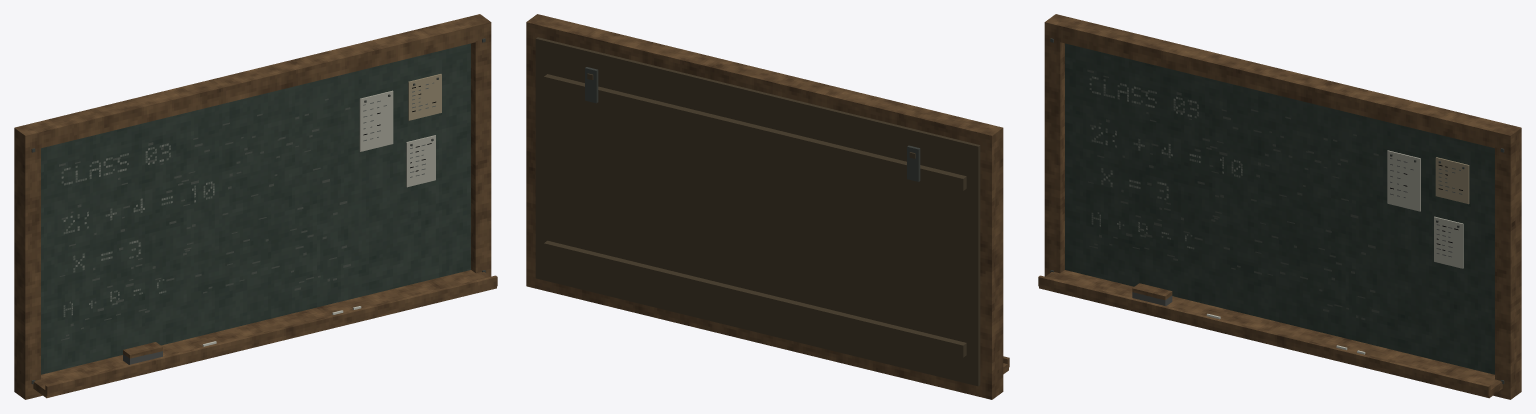
File: Chalkboard.glb
3 views of the same model, side by side, from view 1: azimuth 30°, elevation 25°; view 2: azimuth 150°, elevation 25°; view 3: azimuth 330°, elevation 25° (orthographic).
Visible parts, largest first — view 1: Chalkboard_Frame.001, Chalkboard_Pinned_Notices.001, Chalkboard_Faded_Writing.001; view 2: Chalkboard_Frame.001; view 3: Chalkboard_Frame.001, Chalkboard_Pinned_Notices.001, Chalkboard_Faded_Writing.001.
Part boxes in pixels (x1=…): Chalkboard_Frame.001: x1=14, y1=14, x2=497, y2=399; Chalkboard_Pinned_Notices.001: x1=359, y1=74, x2=441, y2=187; Chalkboard_Faded_Writing.001: x1=59, y1=98, x2=350, y2=340; Chalkboard_Frame.001: x1=526, y1=14, x2=1009, y2=399; Chalkboard_Frame.001: x1=1038, y1=14, x2=1521, y2=399; Chalkboard_Pinned_Notices.001: x1=1387, y1=150, x2=1469, y2=268; Chalkboard_Faded_Writing.001: x1=1087, y1=69, x2=1379, y2=320.
Size of the model in its own units: 2.4 by 1.3 by 0.299.
Materials: 12 (12 with a texture image).
